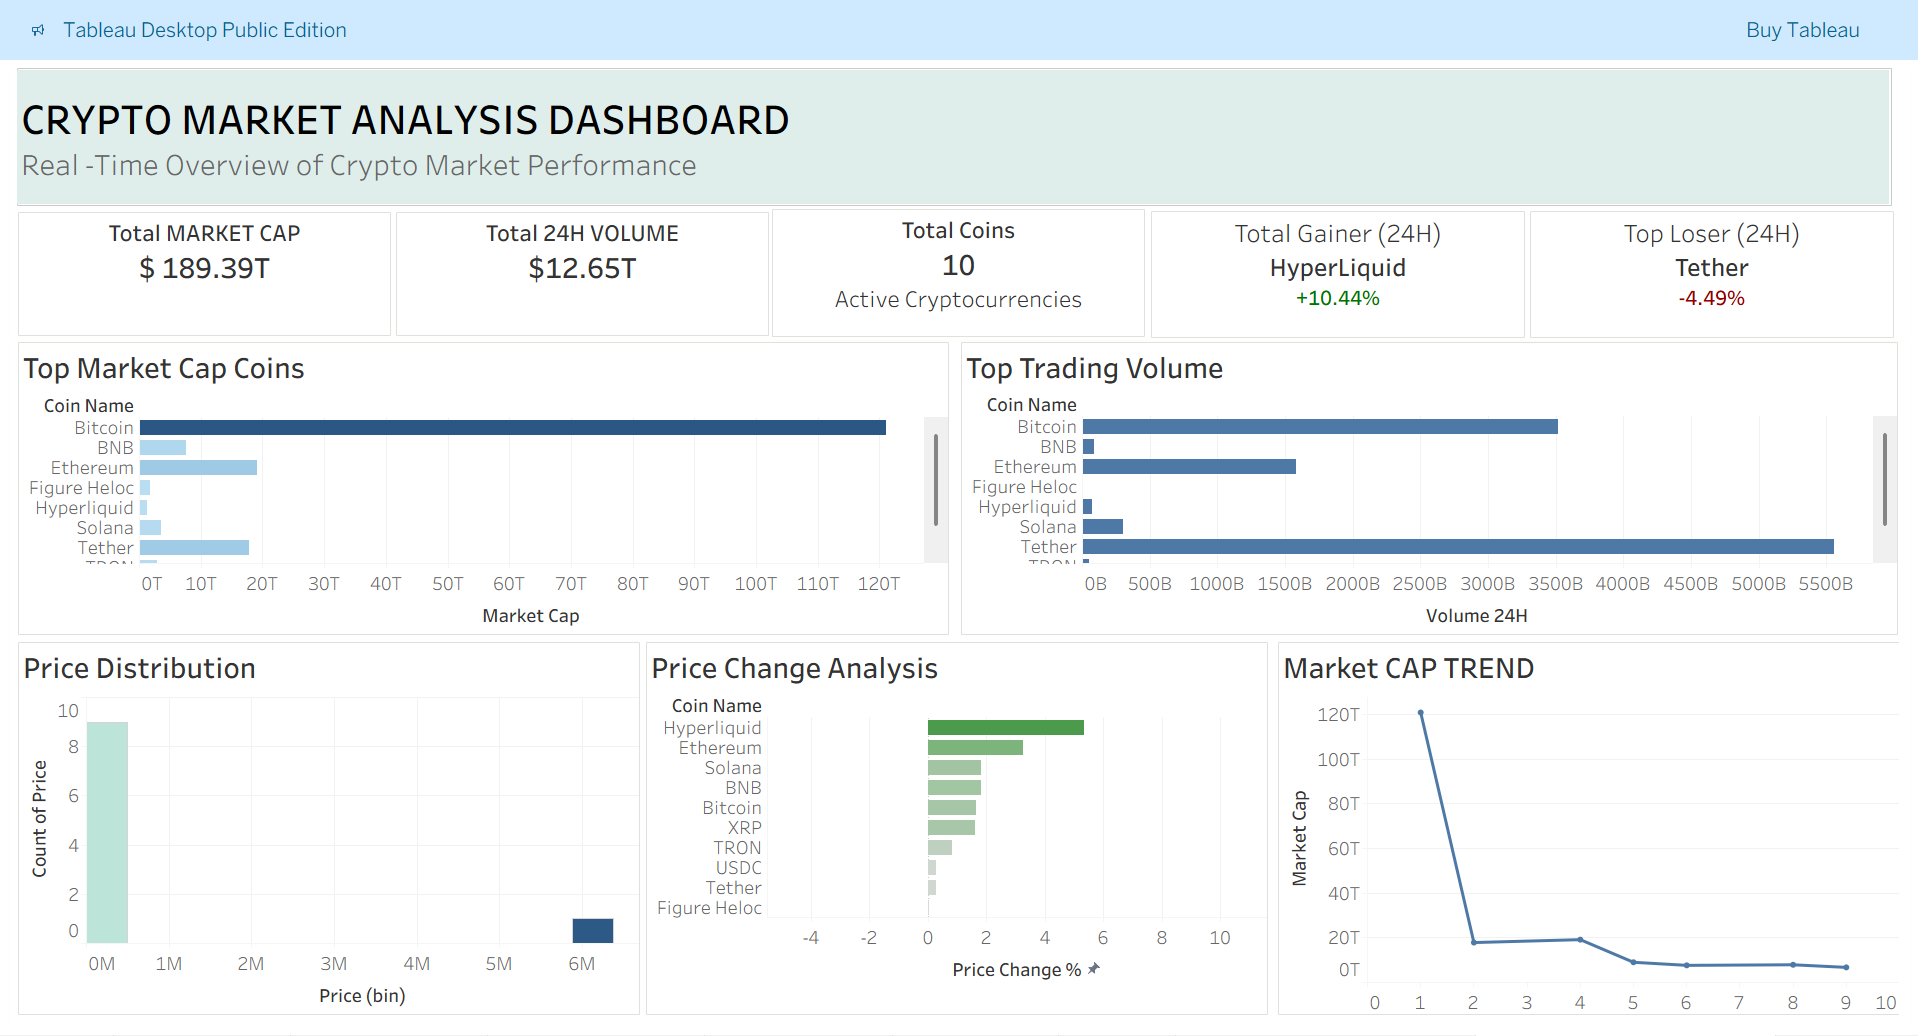

What the dashboard file says about the page in this screenshot:
{"tool":"tableau","page":{"name":"CRYPTO MARKET ANALYSIS DASBOARD ","canvas":[1000,1000],"units":"permille","ordinal":0},"visuals":[{"type":"text","box":[8.9,10.1,975.2,137.3]},{"type":"worksheet","title":"Total Coins","mark":"Automatic","box":[401.9,153.2,194.3,131.5]},{"type":"worksheet","title":"Top Gainer Hyperliquid","mark":"Automatic","box":[599.4,154.6,194.9,130.1]},{"type":"worksheet","title":"Top Loser Tether","mark":"Automatic","box":[796.8,154.6,189.8,130.1]},{"type":"worksheet","title":"Total Market Caps","mark":"Automatic","box":[9.5,156.1,194.3,127.2]},{"type":"worksheet","title":"24H Trading Volume","mark":"Automatic","box":[206.3,156.1,194.3,127.2]},{"type":"worksheet","title":"Top Market Cap Coins","mark":"Automatic","rows":["name"],"cols":["market_cap"],"box":[9.5,289,485.1,300.6]},{"type":"worksheet","title":"Top Trading Volume","mark":"Automatic","rows":["name"],"cols":["volume_24h"],"box":[500.3,289,488.2,300.6]},{"type":"worksheet","title":"Price Distribution","mark":"Automatic","rows":["price_inr"],"cols":["Price (bin)"],"box":[9.5,596.8,323.8,382.9]},{"type":"worksheet","title":"Price Change Analysis","mark":"Automatic","rows":["name"],"cols":["price_change_pct"],"box":[336.5,596.8,323.8,382.9]},{"type":"worksheet","title":"Market CAP TREND","mark":"Automatic","rows":["market_cap"],"cols":["extracted_at"],"box":[665.4,596.8,323.8,382.9]}]}

Visuals, with their boxes on the dashboard's canvas, which has no fixed pixel size, in thousandths of its width and height (x1, y1, x2, y2). These are canvas units, not pixel positions in the 1918x1036 screenshot, which may show the page scaled, cropped or inside an application window:
text: {"x1": 9, "y1": 10, "x2": 984, "y2": 147}
"Total Coins" worksheet: {"x1": 402, "y1": 153, "x2": 596, "y2": 285}
"Top Gainer Hyperliquid" worksheet: {"x1": 599, "y1": 155, "x2": 794, "y2": 285}
"Top Loser Tether" worksheet: {"x1": 797, "y1": 155, "x2": 987, "y2": 285}
"Total Market Caps" worksheet: {"x1": 10, "y1": 156, "x2": 204, "y2": 283}
"24H Trading Volume" worksheet: {"x1": 206, "y1": 156, "x2": 401, "y2": 283}
"Top Market Cap Coins" worksheet: {"x1": 10, "y1": 289, "x2": 495, "y2": 590}
"Top Trading Volume" worksheet: {"x1": 500, "y1": 289, "x2": 988, "y2": 590}
"Price Distribution" worksheet: {"x1": 10, "y1": 597, "x2": 333, "y2": 980}
"Price Change Analysis" worksheet: {"x1": 336, "y1": 597, "x2": 660, "y2": 980}
"Market CAP TREND" worksheet: {"x1": 665, "y1": 597, "x2": 989, "y2": 980}
